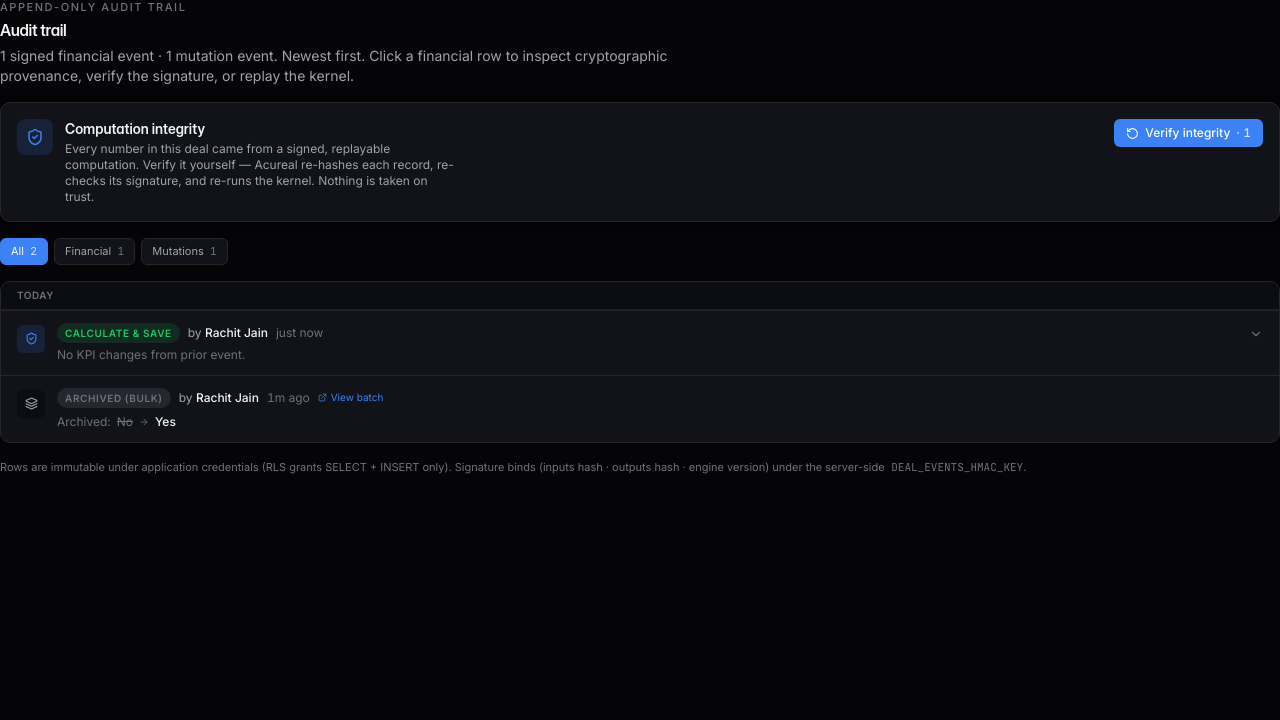
it: AuditTab UX upgrades › opens the bulk-batch peek when "View batch" is clicked on a bulk-event row
The width and height of the screenshot is (1280, 720).
Click the button "View batch": click(350, 398) [318,390,383,405]
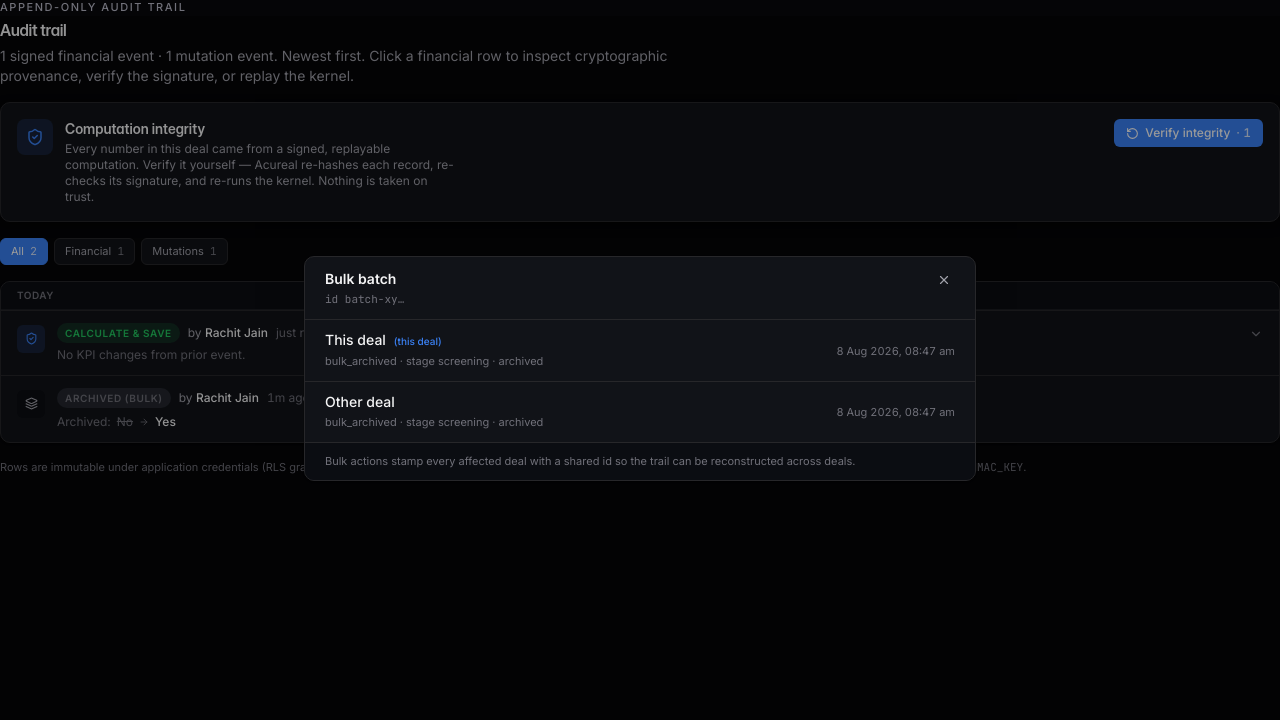
Expected: the dialog "Bulk batch" is shown
Expected: the text "Other deal" is shown, [325,393,395,410]
Expected: the text "(this deal)" is shown, [394,335,442,347]
